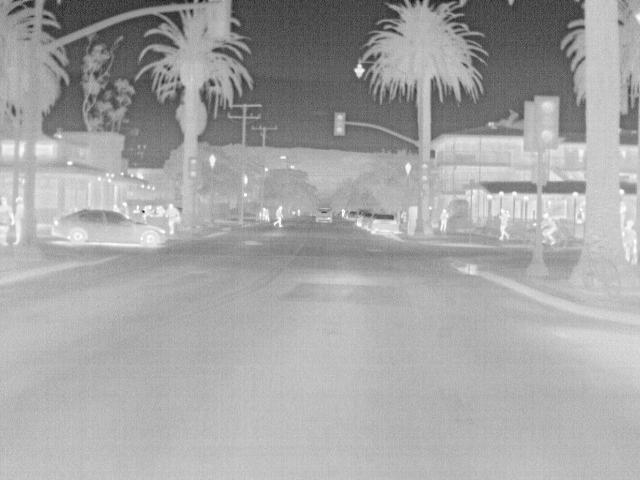car: (50, 207, 166, 248), (370, 215, 401, 235), (315, 206, 335, 224), (362, 211, 378, 231), (355, 212, 373, 227)
person: (11, 195, 26, 243), (621, 218, 638, 260), (0, 194, 13, 247), (541, 210, 559, 248), (496, 207, 511, 241), (163, 204, 179, 234), (271, 204, 285, 230), (438, 207, 450, 234)
